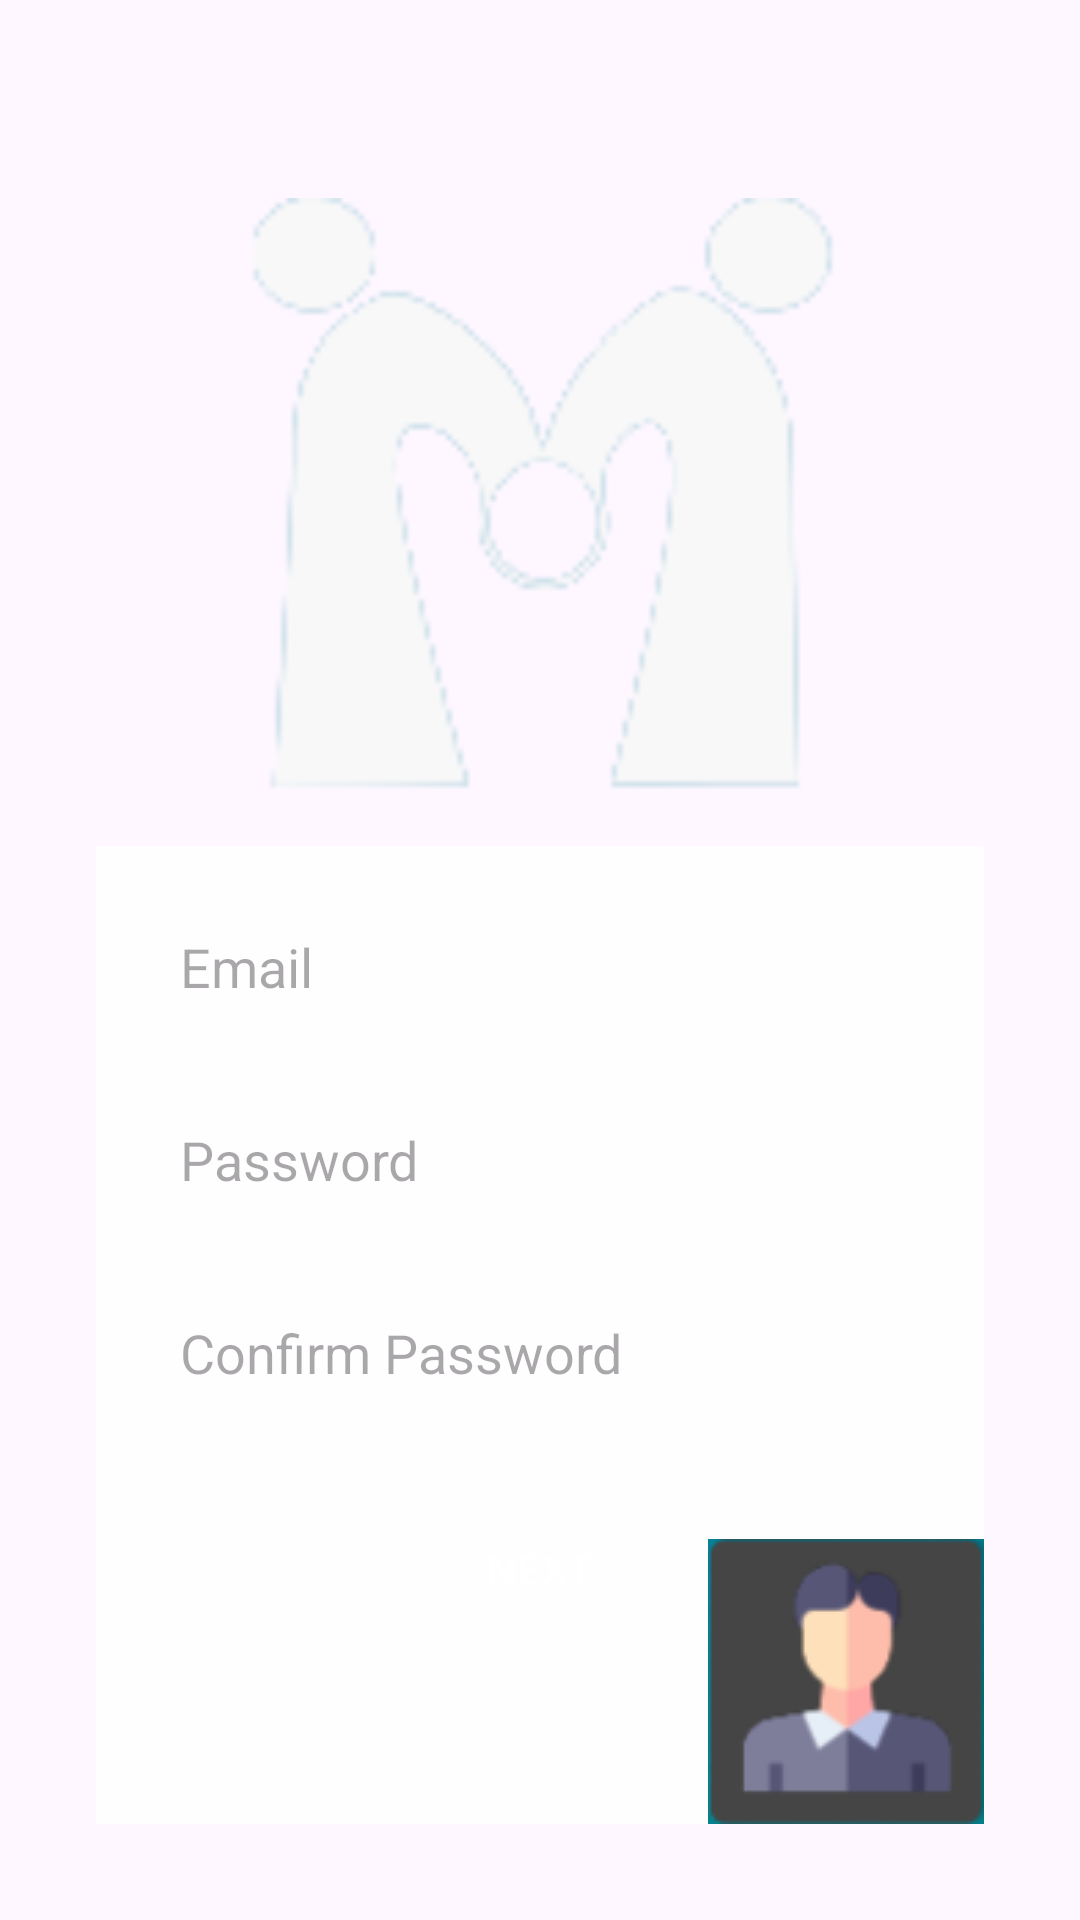

Icons on this 1080x1920 Android screen, each with the point to tap as [x,y]:
mentor: [846,1681]
